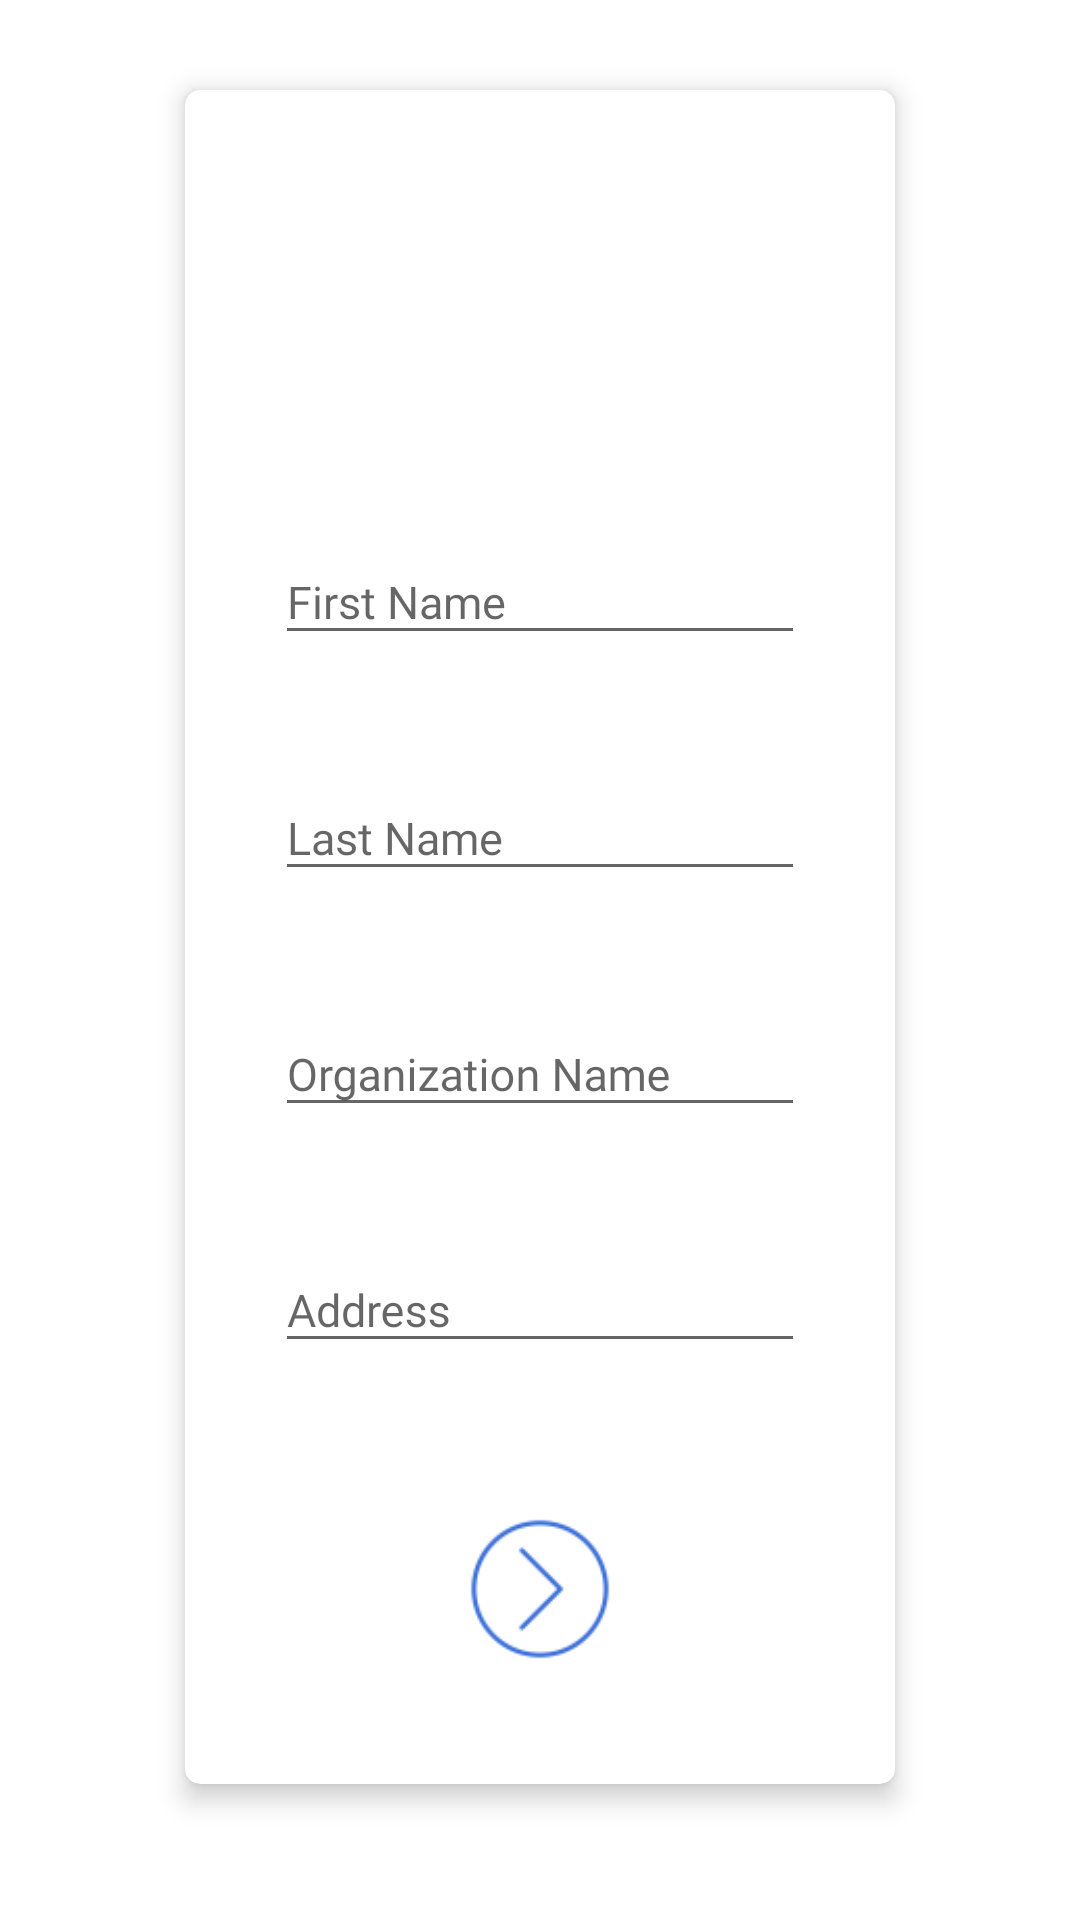

Locate icon controls on the screen. Image size 1080w x 1920h, boxes as box(x1, y1, x2, y2).
right arrow: box(471, 1520, 609, 1658)
